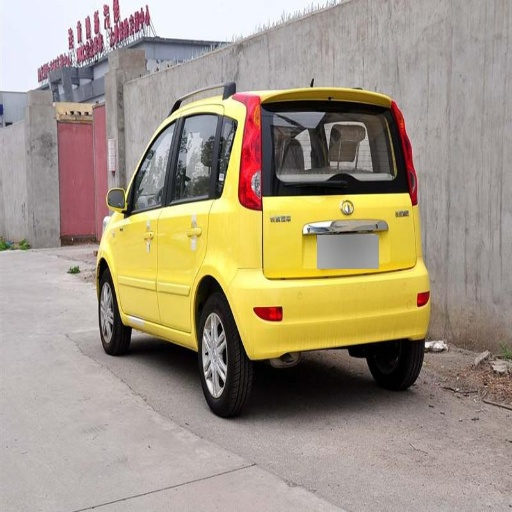back_bumper: (230, 258, 428, 360)
back_glass: (273, 102, 391, 170)
back_left_door: (158, 117, 215, 319)
back_left_light: (239, 146, 262, 210)
back_right_door: (119, 262, 156, 318)
trunk: (236, 175, 415, 280)
